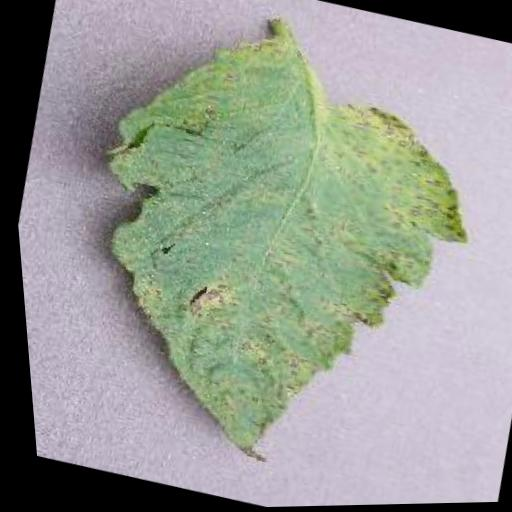Septoria: (22, 0, 512, 506)
